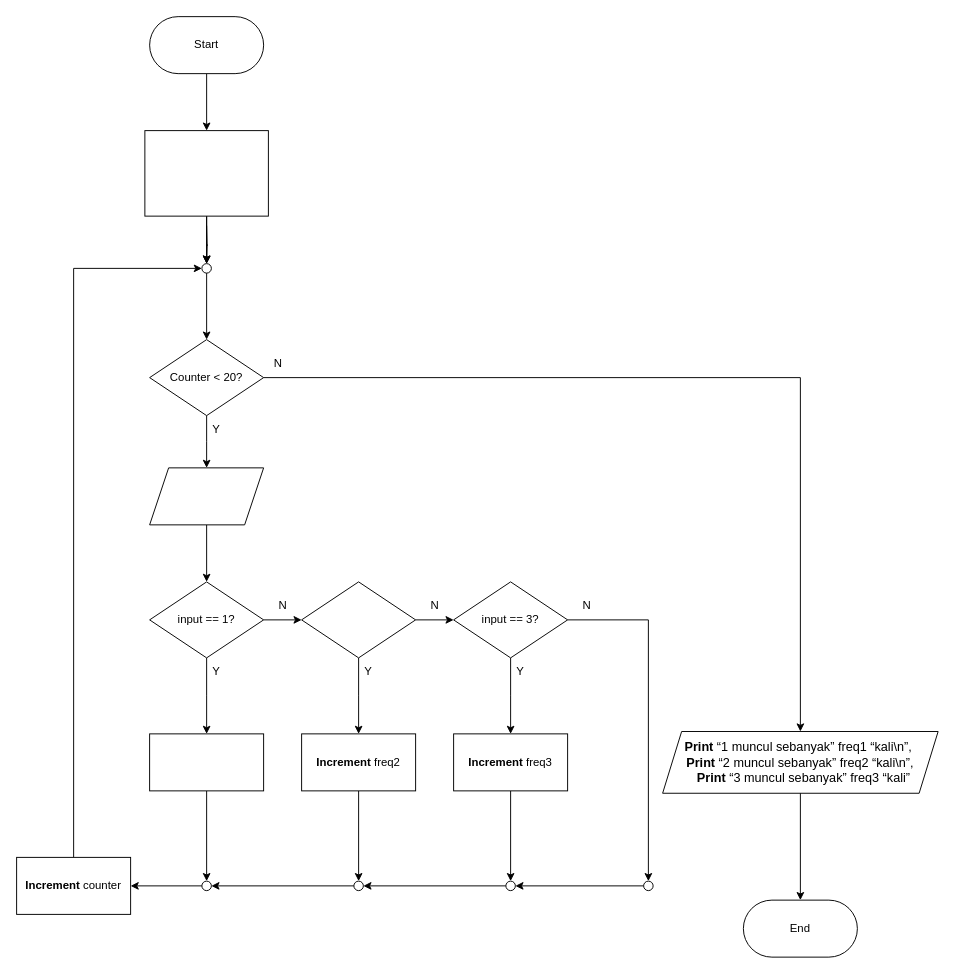
Some shapes in this 955 by 974 pixel diagram are drawn without their labels. Each missing label, with the centre of its shape:
"Increment freq1" goes at point (206, 762).
"input == 2?" goes at point (358, 619).
"int input, int freq1 = 0, int freq 2 = 0, int freq3 = 0, int counter = 0" goes at point (206, 173).
"scan input" goes at point (206, 496).
